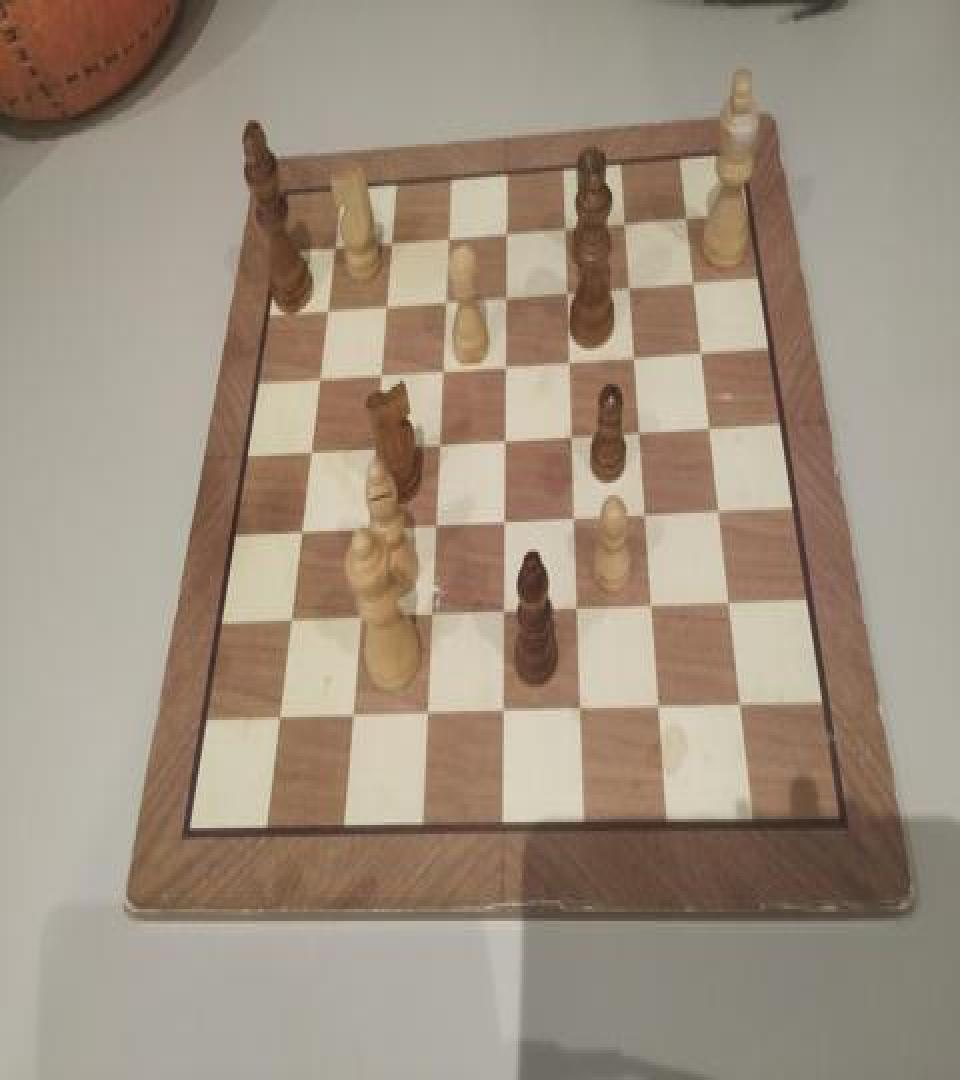xcorner: (267, 702, 287, 732), (341, 700, 361, 730), (415, 699, 435, 729), (492, 696, 512, 726), (570, 694, 590, 724), (649, 692, 669, 722), (731, 690, 751, 720), (279, 604, 299, 634), (420, 598, 440, 628), (567, 592, 587, 622), (642, 590, 662, 620), (290, 516, 310, 546), (357, 512, 377, 542), (424, 508, 444, 538), (493, 504, 513, 534), (564, 501, 584, 531), (635, 496, 655, 526), (708, 494, 728, 524), (300, 435, 320, 465), (364, 430, 384, 460), (428, 426, 448, 456), (494, 422, 514, 452), (561, 418, 581, 448), (629, 414, 649, 444), (699, 410, 719, 440), (309, 362, 329, 392), (370, 357, 390, 387), (432, 352, 452, 382), (495, 346, 515, 376), (559, 342, 579, 372), (624, 338, 644, 368), (690, 333, 710, 363), (317, 294, 337, 324), (376, 288, 396, 318), (435, 284, 455, 314), (495, 279, 515, 309), (557, 273, 577, 303), (619, 268, 639, 298), (682, 262, 702, 292), (325, 231, 345, 261), (381, 226, 401, 256), (438, 220, 458, 250), (496, 214, 516, 244), (555, 210, 575, 240), (614, 204, 634, 234), (675, 198, 695, 228), (349, 602, 369, 631), (493, 596, 513, 625), (719, 587, 739, 616)
